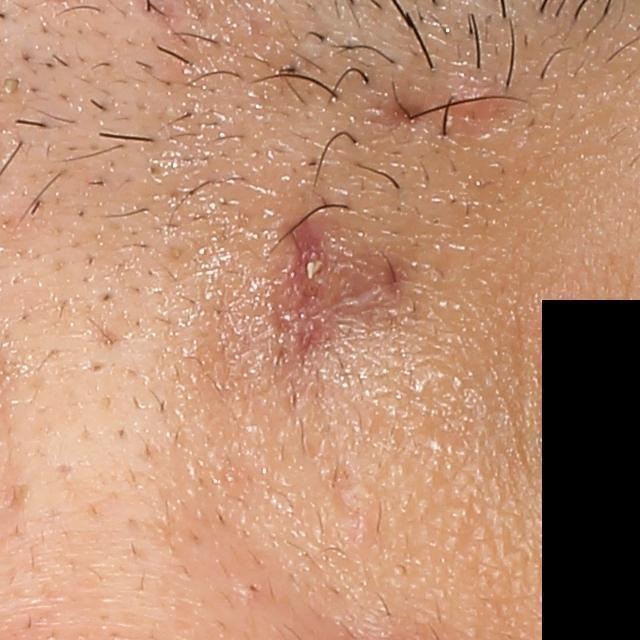atrophic_scar: (265, 215, 415, 359), (317, 461, 364, 524)
papule: (437, 75, 503, 122)
